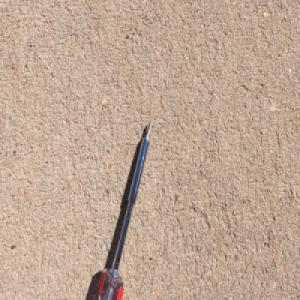Screwdriver: (93, 120, 153, 300)
